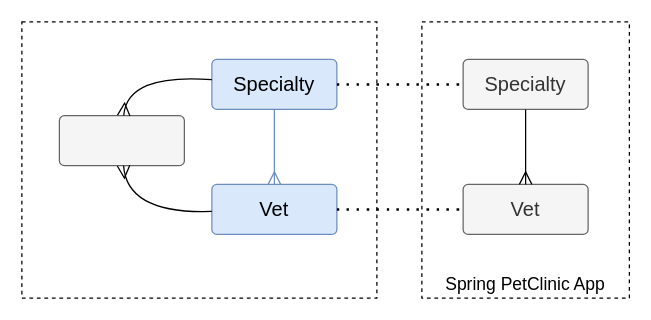
This 651x320 diagram has some shape labels left out. The shapes that lost their labels are listed below. From the top down, each one's box as (x1, y1, x2, y2) in pixels, then its label:
(58, 114, 184, 166): Training
(21, 21, 377, 298): Jmix Veterinary Training App
